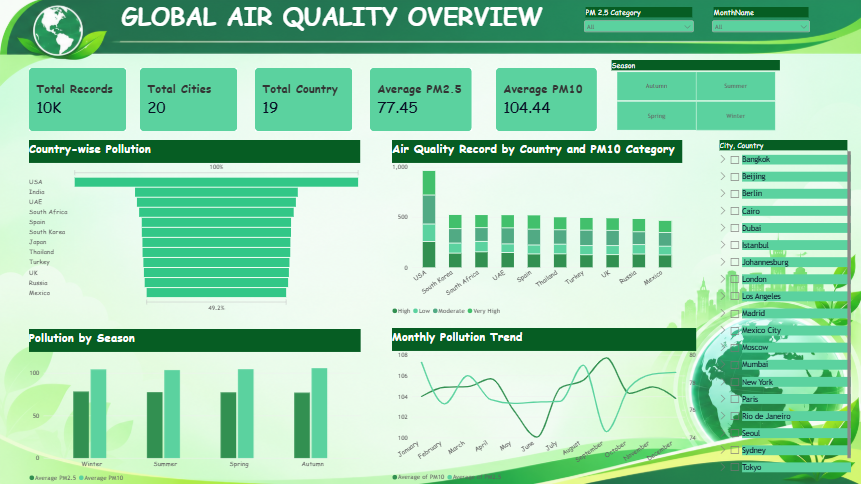

This screenshot's page, from the dashboard's own definition file:
{"tool":"powerbi","page":{"name":"Page 1","canvas":[1920,1080],"ordinal":0},"visuals":[{"type":"cardVisual","fields":{"Data":["cleaned_air_quality.Total Records"]},"box":[65.3,155.1,216,140.4],"z":0},{"type":"cardVisual","fields":{"Data":["cleaned_air_quality.Total Cities"]},"box":[310.2,155.1,216,140.4],"z":1000},{"type":"slicer","fields":{"Values":["cleaned_date.Season"]},"box":[1351,138.8,389.8,157.1],"z":2000},{"type":"slicer","fields":{"Values":["cleaned_air_quality.PM 2.5 Category"]},"box":[1293.9,20.4,253.1,71.4],"z":3000},{"type":"slicer","fields":{"Values":["cleaned_location.City","cleaned_location.Country"]},"box":[1590.9,315.2,300,745.5],"z":4000},{"type":"textbox","box":[245.7,0,968.6,91.4],"z":5000},{"type":"columnChart","title":"Air Quality Record by Country and PM10 Category","fields":{"Category":["cleaned_location.Country"],"Series":["cleaned_air_quality.PM10 Category"],"Y":["CountNonNull(cleaned_air_quality.AirQualityRecordKey)"]},"box":[871.4,316.3,645.5,393.9],"z":6000},{"type":"cardVisual","fields":{"Data":["cleaned_air_quality.Total Country"]},"box":[567.3,155.1,216.3,140.8],"z":7000},{"type":"cardVisual","fields":{"Data":["cleaned_air_quality.Average PM2.5"]},"box":[822.4,155.1,226.8,140.4],"z":8000},{"type":"cardVisual","fields":{"Data":["cleaned_air_quality.Average PM10"]},"box":[1102,155.1,224.6,140.4],"z":9000},{"type":"slicer","fields":{"Values":["cleaned_date.MonthName"]},"box":[1577.6,20.4,226.5,67.3],"z":10000},{"type":"clusteredColumnChart","title":"\tPollution by Season","fields":{"Category":["cleaned_date.Season"],"Y":["cleaned_air_quality.Average PM2.5","cleaned_air_quality.Average PM10"]},"box":[65.3,734.7,736.7,344.9],"z":11000},{"type":"lineChart","title":"Monthly Pollution Trend","fields":{"Category":["cleaned_date.MonthName"],"Y":["Avg(cleaned_air_quality.PM10)"],"Y2":["Avg(cleaned_air_quality.PM2.5)"]},"box":[870.5,734.4,676.1,345.6],"z":12000},{"type":"funnel","title":"Country-wise Pollution","fields":{"Category":["cleaned_location.Country"],"Y":["Sum(cleaned_air_quality.PM2.5)"]},"box":[65.3,316.3,736.4,381.8],"z":13000}]}

Visuals, with their boxes in screenshot pixels (x1, y1, x2, y2), scaled from the page's 1920x1080 canvas onto the 861x484 screenshot:
cardVisual - cleaned_air_quality.Total Records: 29 70 126 132
cardVisual - cleaned_air_quality.Total Cities: 139 70 236 132
slicer - cleaned_date.Season: 606 62 781 133
slicer - cleaned_air_quality.PM 2.5 Category: 580 9 694 41
slicer - cleaned_location.City x cleaned_location.Country: 713 141 848 475
textbox: 110 0 545 41
"Air Quality Record by Country and PM10 Category" columnChart: 391 142 680 318
cardVisual - cleaned_air_quality.Total Country: 254 70 351 133
cardVisual - cleaned_air_quality.Average PM2.5: 369 70 471 132
cardVisual - cleaned_air_quality.Average PM10: 494 70 595 132
slicer - cleaned_date.MonthName: 707 9 809 39
"	Pollution by Season" clusteredColumnChart: 29 329 360 483
"Monthly Pollution Trend" lineChart: 390 329 694 483
"Country-wise Pollution" funnel: 29 142 360 313
